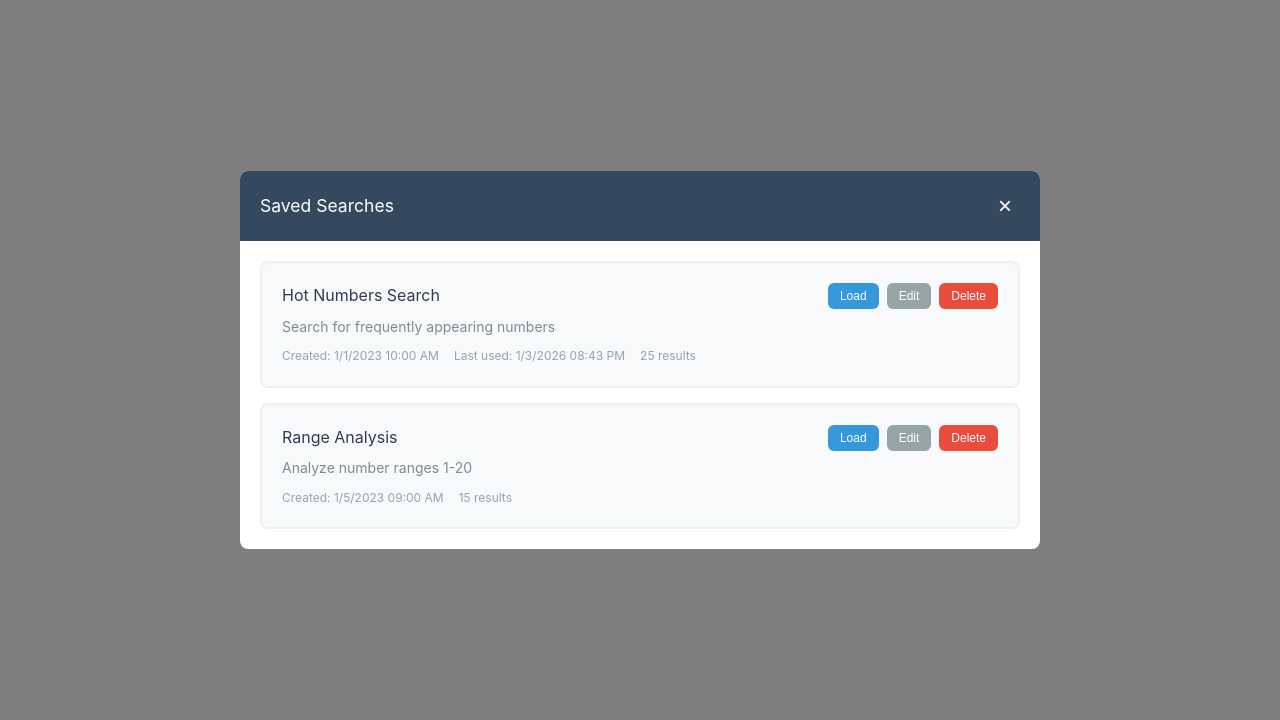
Test: SavedSearches › opens edit dialog when Edit button is clicked
Click the button "Edit" in the row of "Hot Numbers Search". click: point(909, 296)
box: [887,283,931,309]
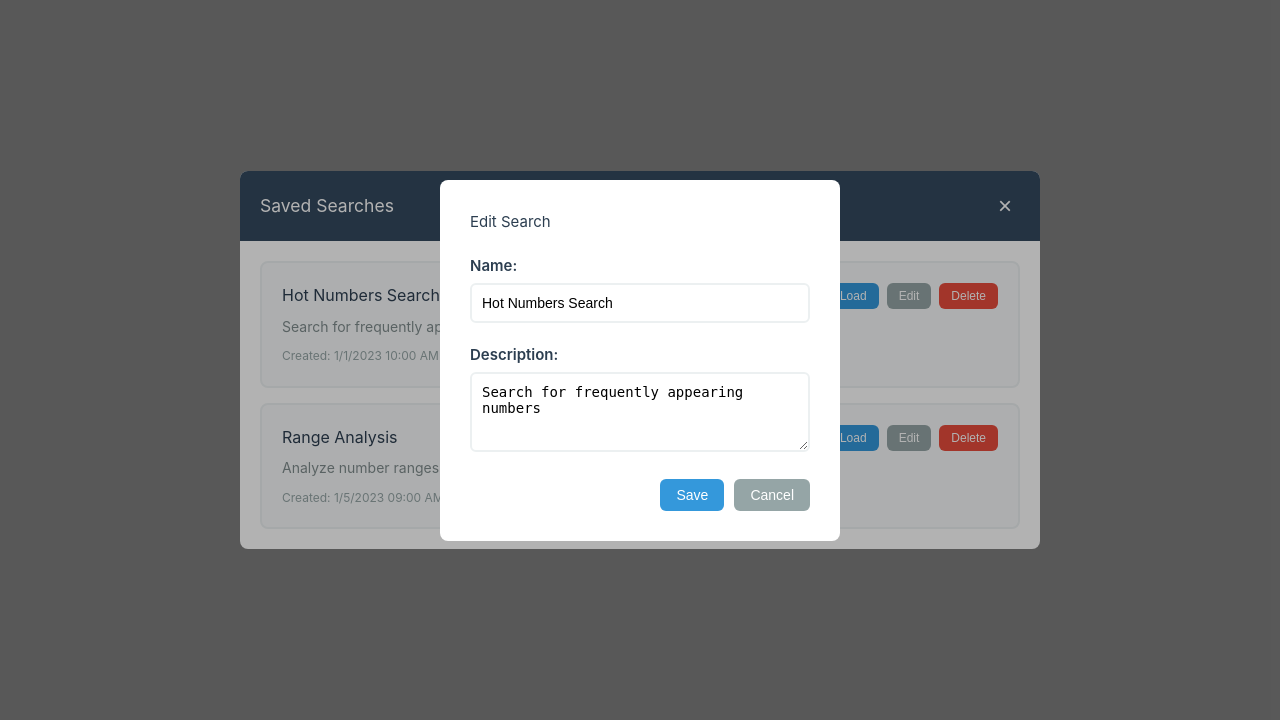
Check: the element with class "edit-dialog" is shown, box [440,180,840,540]
